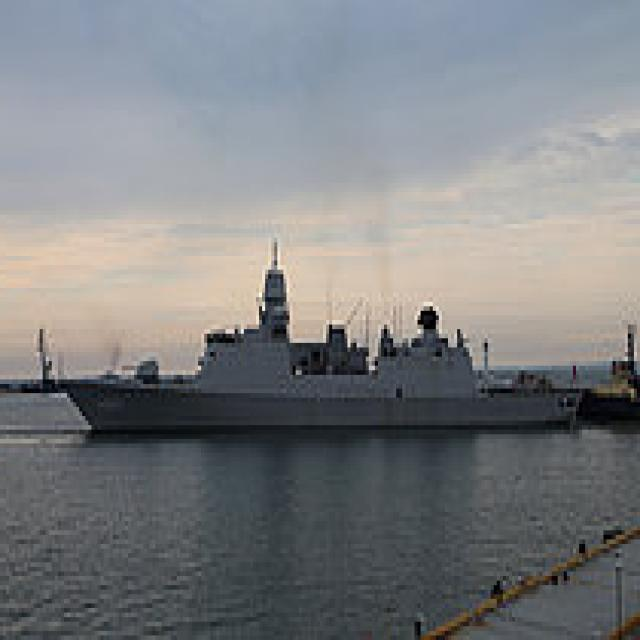Warship: (61, 233, 594, 439)
